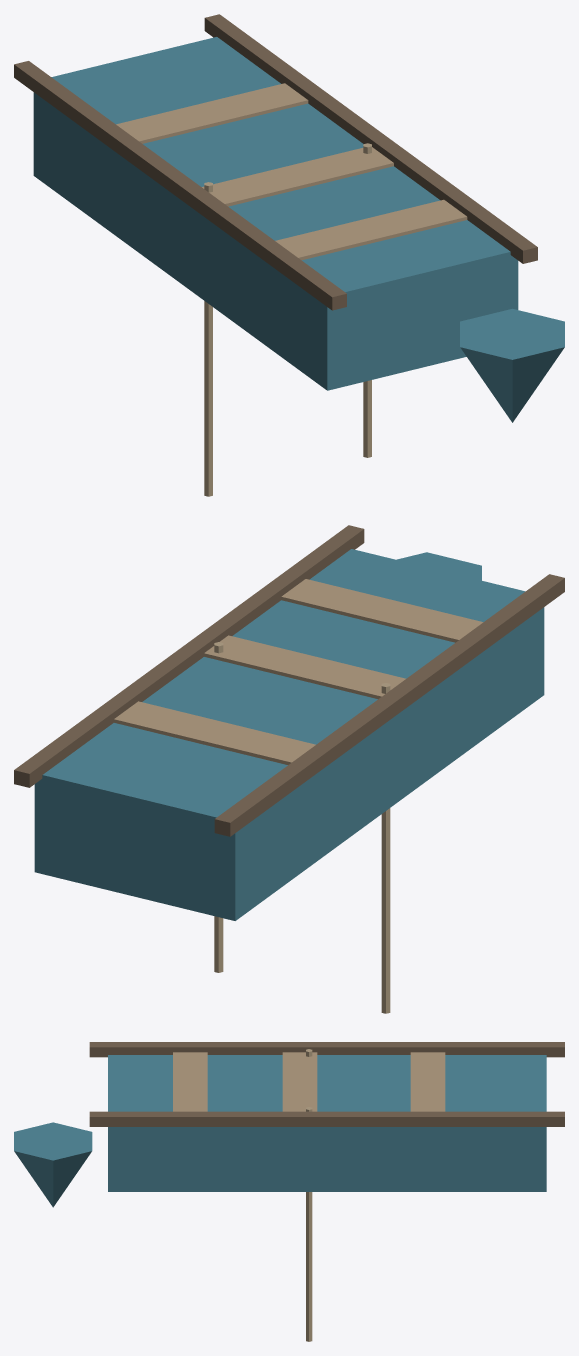
Rendered from survivor_boat.glb.
3 views of the same model, one above another, from view 1: azimuth 30°, elevation 25°; view 2: azimuth 150°, elevation 25°; view 3: azimuth 270°, elevation 25° (orthographic). The views are drawn at different scales.
Parts seen in each view (by area): view 1: geometry_0; view 2: geometry_0; view 3: geometry_0.
Part boxes in pixels (x1,y1,x2,y2): geometry_0: (14, 14, 564, 496); geometry_0: (14, 525, 564, 1013); geometry_0: (14, 1042, 564, 1341).
Size of the model in its own units: 1.97 by 2.8 by 6.03.
